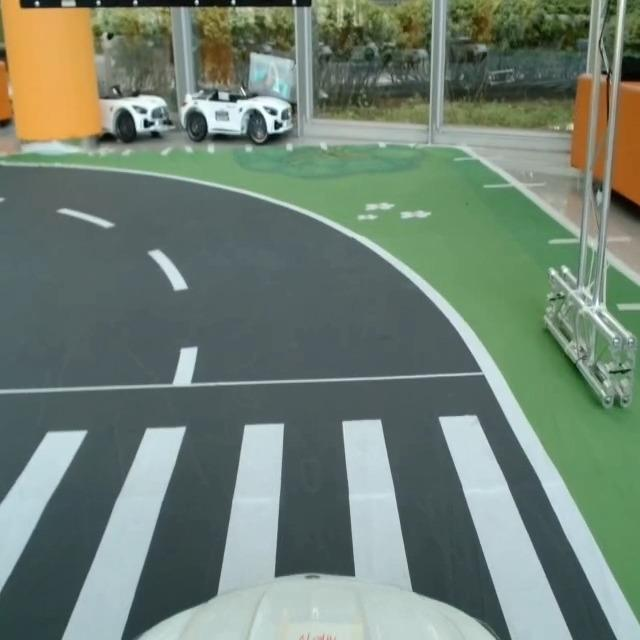traffic-light: (18, 0, 315, 13)
